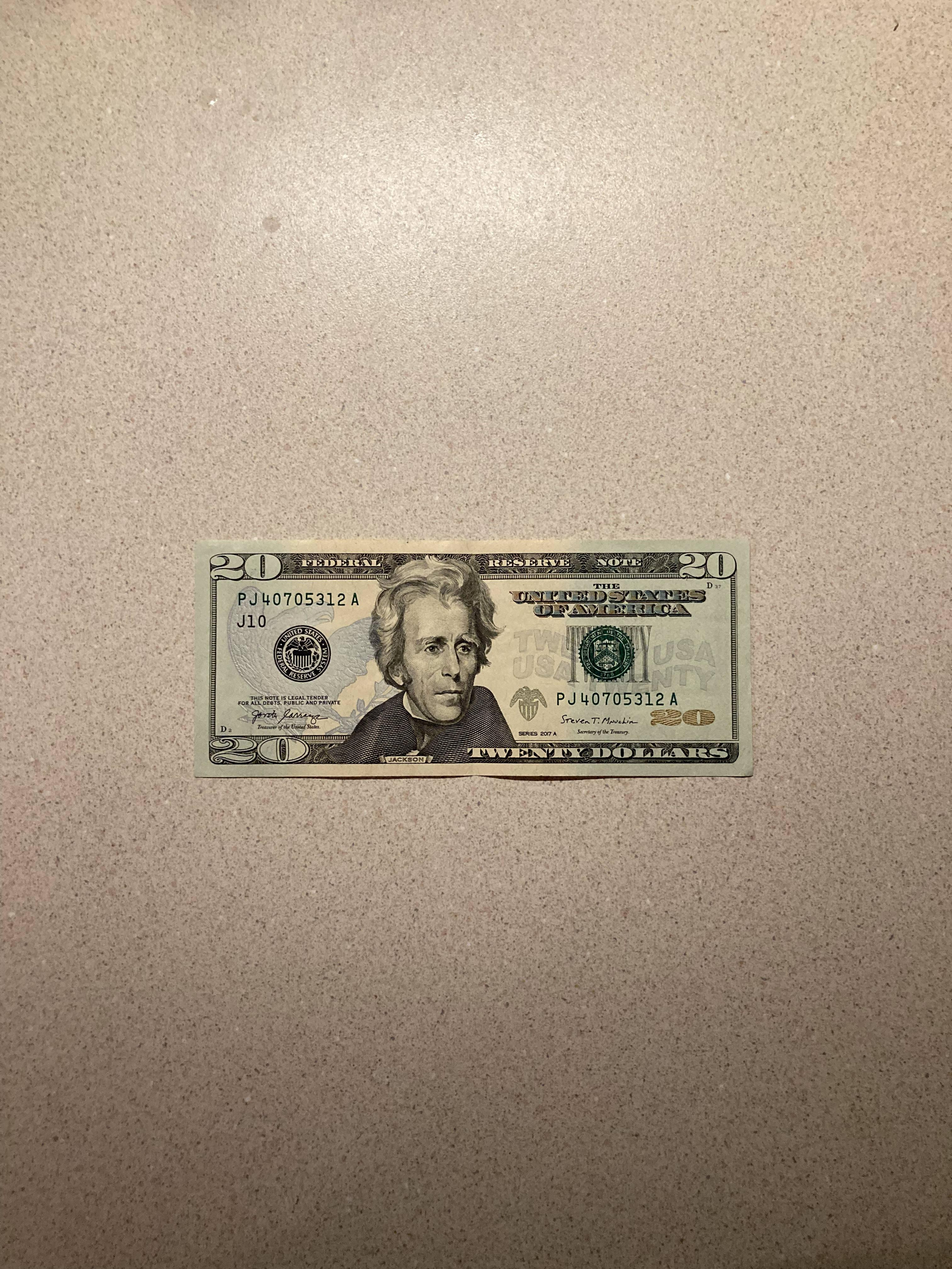twenty-front: (195, 540, 757, 779)
